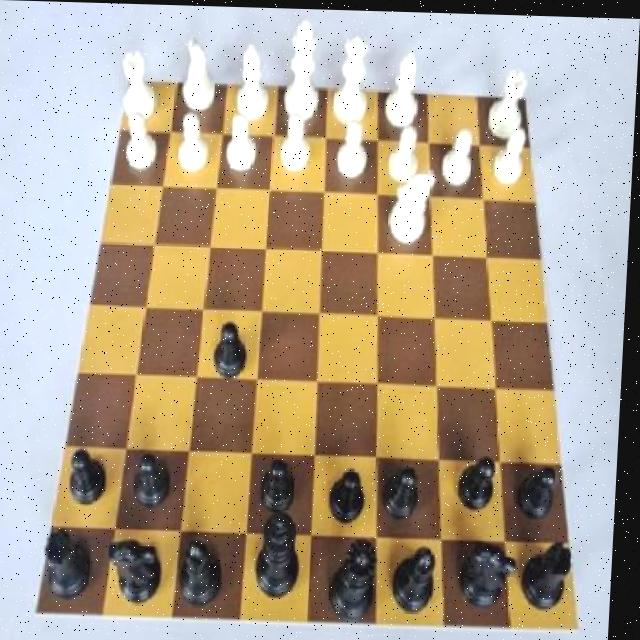bishop: (178, 531, 234, 617), (392, 537, 449, 620)
black-bishop: (255, 497, 311, 614)
black-king: (458, 536, 525, 618), (111, 529, 171, 616)
black-knight: (517, 453, 572, 530), (328, 447, 375, 532), (455, 447, 512, 517), (259, 448, 308, 524), (385, 451, 434, 525), (135, 448, 184, 522), (71, 442, 118, 511), (214, 316, 255, 384)
black-pawn: (331, 536, 385, 624)
black-queen: (526, 534, 587, 618), (47, 526, 103, 613)
black-rook: (230, 38, 277, 125), (384, 43, 426, 130)
white-bishop: (283, 11, 323, 123)
white-king: (387, 157, 446, 250), (175, 35, 222, 125)
white-knight: (278, 108, 325, 182), (121, 104, 167, 178), (484, 122, 534, 190), (438, 115, 482, 192), (172, 107, 219, 179), (224, 104, 263, 186), (332, 115, 372, 187), (386, 120, 424, 185)
white-pawn: (329, 22, 379, 129)
white-queen: (116, 42, 166, 130), (485, 62, 536, 140)
